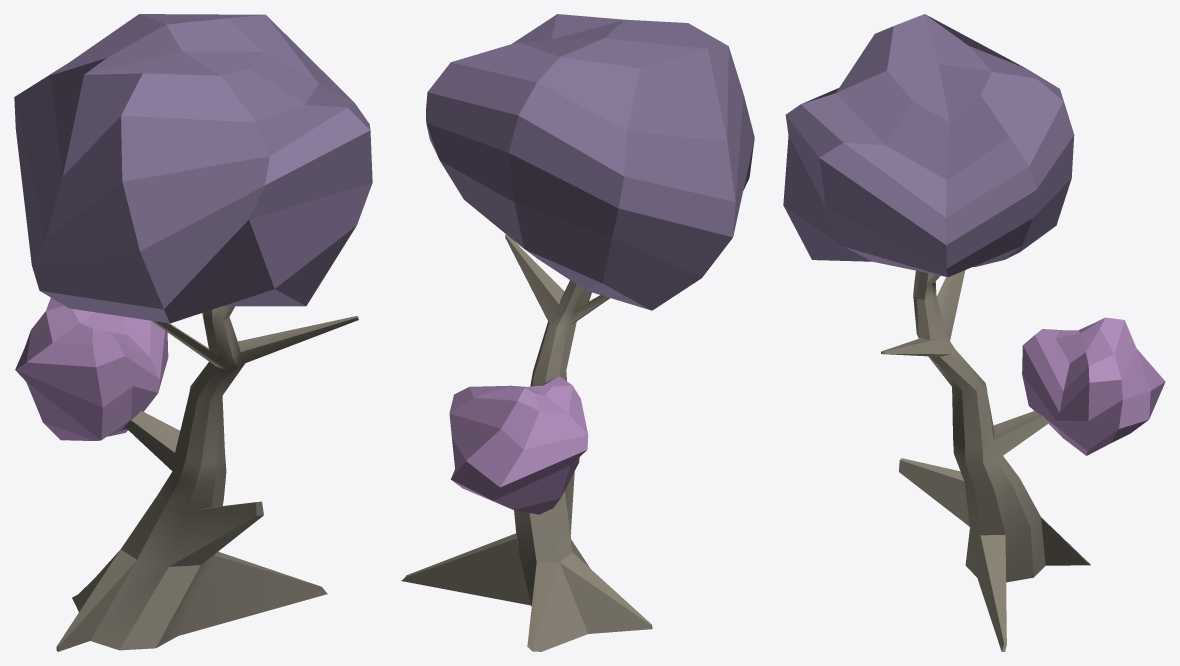
Rendered from AssetArbolLMorado.fbx.
The picture shows the model from 3 angles, left to right: view 1: azimuth 30°, elevation 25°; view 2: azimuth 150°, elevation 25°; view 3: azimuth 270°, elevation 25°; orthographic projection. The views are drawn at different scales.
Visible parts, largest first — view 1: pasted__pSphere1, pasted__pCylinder25, pasted__pSphere2; view 2: pasted__pSphere1, pasted__pCylinder25, pasted__pSphere2; view 3: pasted__pSphere1, pasted__pCylinder25, pasted__pSphere2.
Boxes of the visible parts, <box> form: pasted__pSphere1: <box>14,14,372,323</box>; pasted__pCylinder25: <box>56,306,358,651</box>; pasted__pSphere2: <box>15,297,168,440</box>; pasted__pSphere1: <box>426,14,754,310</box>; pasted__pCylinder25: <box>401,234,652,651</box>; pasted__pSphere2: <box>449,376,588,514</box>; pasted__pSphere1: <box>783,14,1074,277</box>; pasted__pCylinder25: <box>881,270,1090,651</box>; pasted__pSphere2: <box>1022,317,1165,455</box>.
Bounding box in the file's own units: 7.95 × 14.11 × 9.33.
